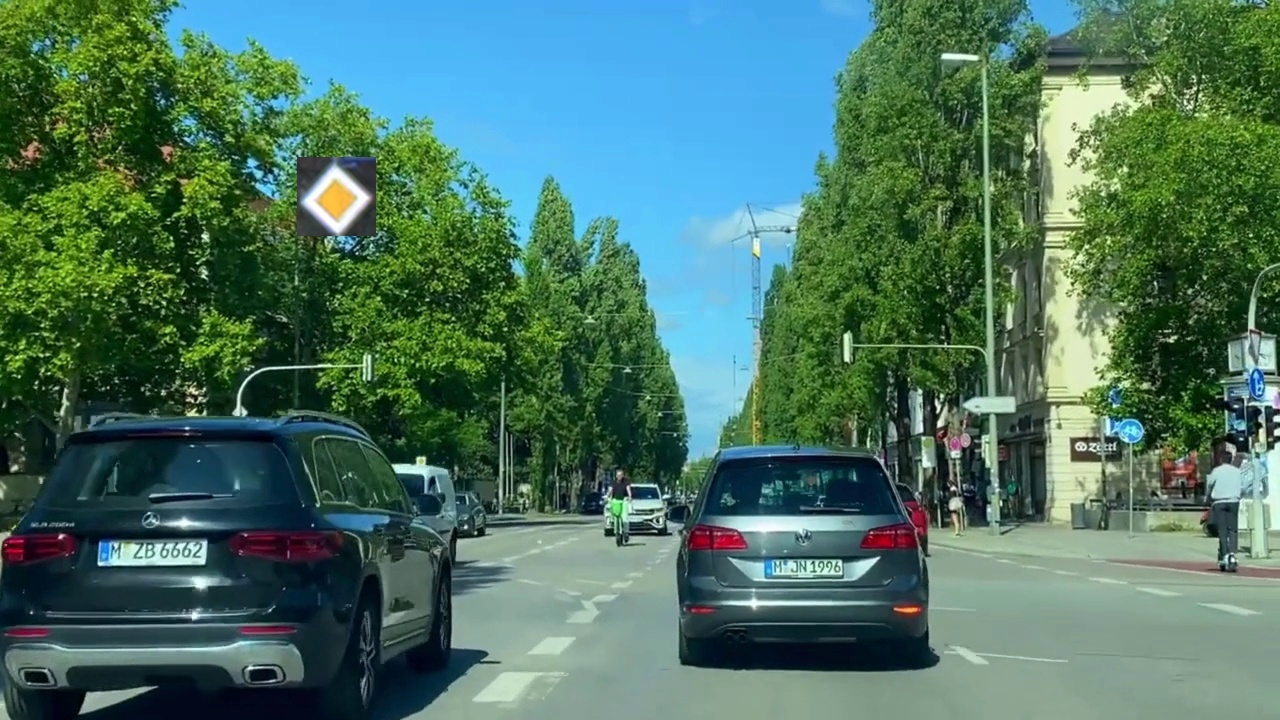Priority road: (297, 157, 376, 236)
